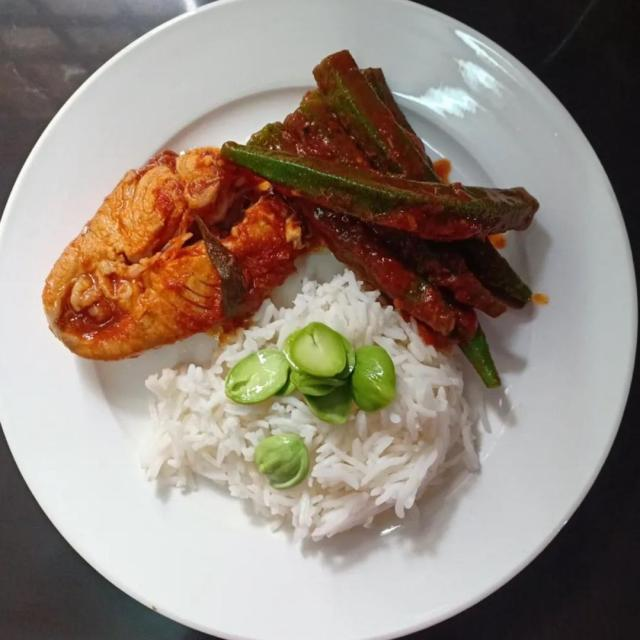Fish: (43, 149, 311, 366)
Plate: (0, 0, 629, 639)
Rice: (148, 273, 488, 542)
Vegetables: (222, 52, 540, 392), (222, 331, 401, 489)
